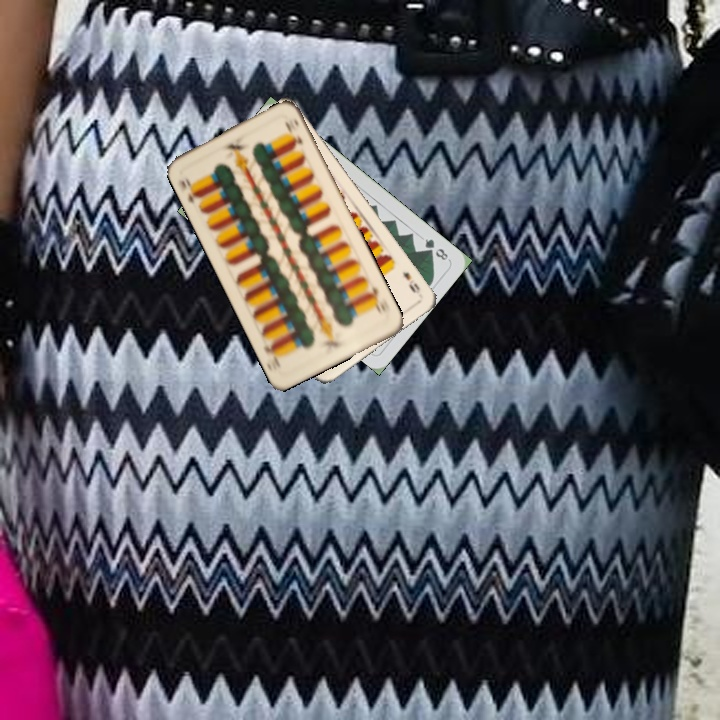E10: (177, 173, 203, 207), (363, 283, 387, 316)
E9: (399, 267, 423, 296)
G8: (420, 234, 451, 263)
